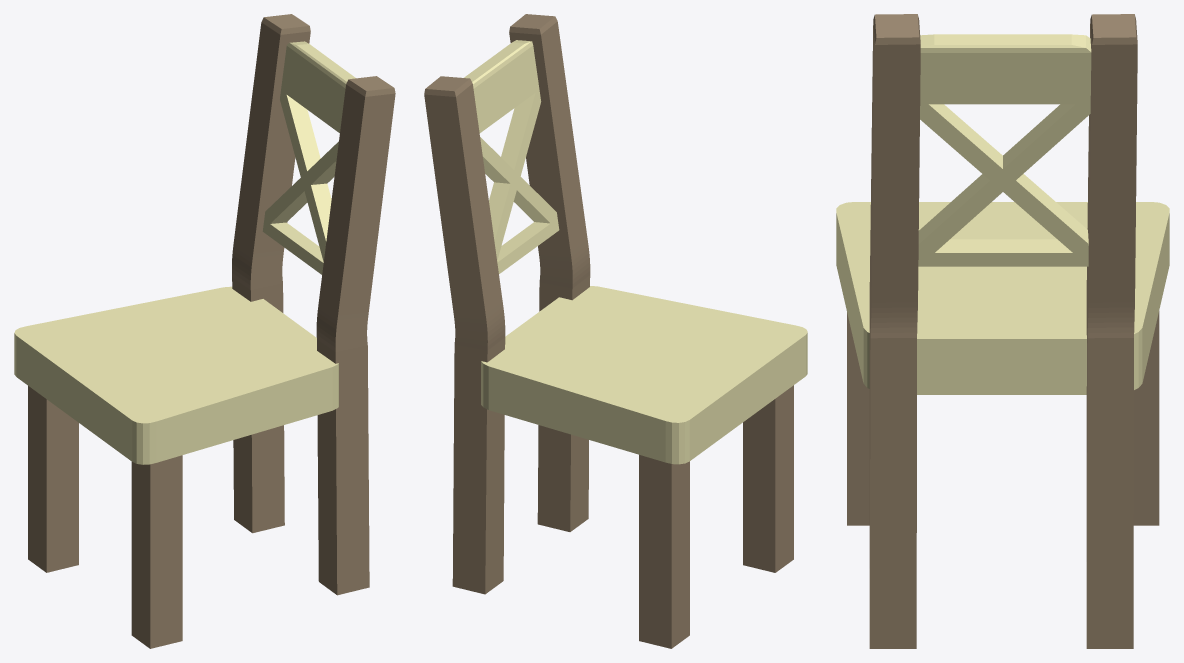
The model's file is Chair.fbx.
3 renders of one model, left to right at view 1: azimuth 30°, elevation 25°; view 2: azimuth 150°, elevation 25°; view 3: azimuth 270°, elevation 25°, orthographic. The views are drawn at different scales.
Visible parts, largest first — view 1: Cube, Cube.001, Cube.002, Cube.006, Cube.003, Cube.004; view 2: Cube, Cube.002, Cube.001, Cube.006, Cube.004, Cube.003; view 3: Cube, Cube.001, Cube.002, Cube.006, Cube.004, Cube.003.
Boxes of the visible parts, left/top/right/bottom form: Cube: left=14, top=286, right=338, bottom=464; Cube.001: left=316, top=76, right=395, bottom=595; Cube.002: left=232, top=14, right=310, bottom=533; Cube.006: left=262, top=41, right=355, bottom=274; Cube.003: left=131, top=455, right=182, bottom=648; Cube.004: left=28, top=386, right=78, bottom=572; Cube: left=481, top=286, right=807, bottom=464; Cube.002: left=424, top=76, right=505, bottom=594; Cube.001: left=509, top=14, right=590, bottom=531; Cube.006: left=464, top=40, right=559, bottom=273; Cube.004: left=639, top=454, right=689, bottom=648; Cube.003: left=743, top=385, right=793, bottom=572; Cube: left=836, top=202, right=1169, bottom=394; Cube.001: left=869, top=14, right=920, bottom=648; Cube.002: left=1086, top=14, right=1137, bottom=648; Cube.006: left=918, top=34, right=1091, bottom=266; Cube.004: left=1133, top=311, right=1159, bottom=525; Cube.003: left=847, top=312, right=869, bottom=525.
Bounding box in the file's own units: 618 × 1077 × 513.
